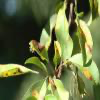Apple rust leaf: (75, 15, 97, 67), (0, 62, 38, 78)
